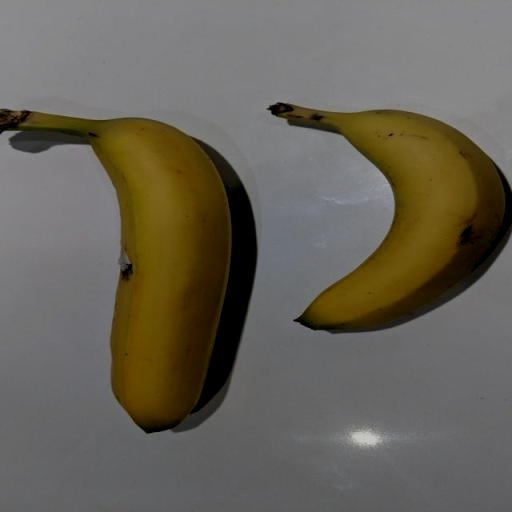fruit: (0, 110, 230, 431), (270, 104, 503, 329)
